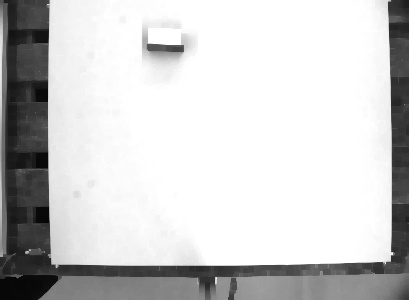b3: (143, 23, 187, 52)
